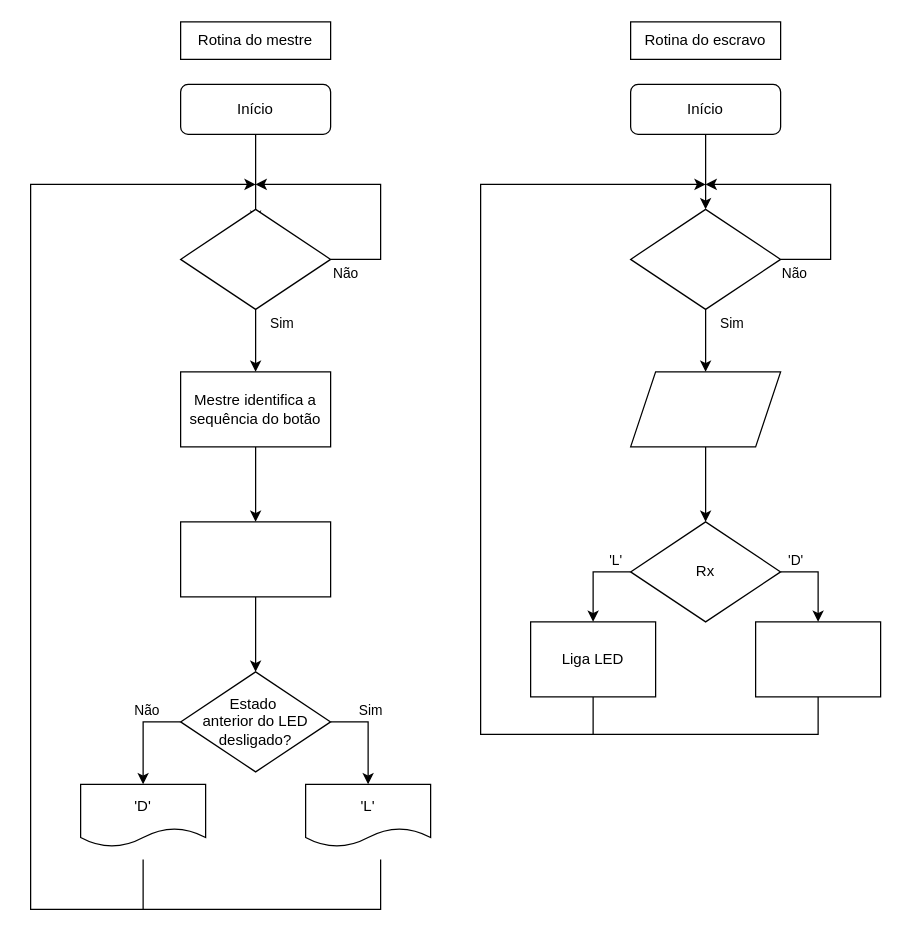
This 903x941 diagram has some shape labels left out. Each missing label, with the box of its shape:
Botão pressionado?: (179, 208, 331, 309)
CS# HIGH?: (629, 208, 781, 309)
Desliga LED: (754, 621, 881, 697)
Ler Rx: (629, 371, 781, 447)
Mestre liga o pino CS# para o escravo correspondente: (179, 521, 331, 597)
